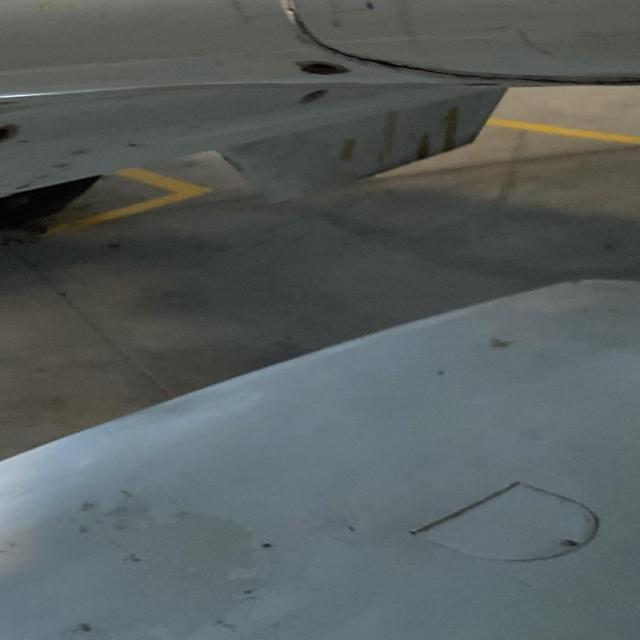Missing-head: (297, 60, 348, 76), (0, 126, 17, 146)
Paint-off: (364, 3, 375, 13)
